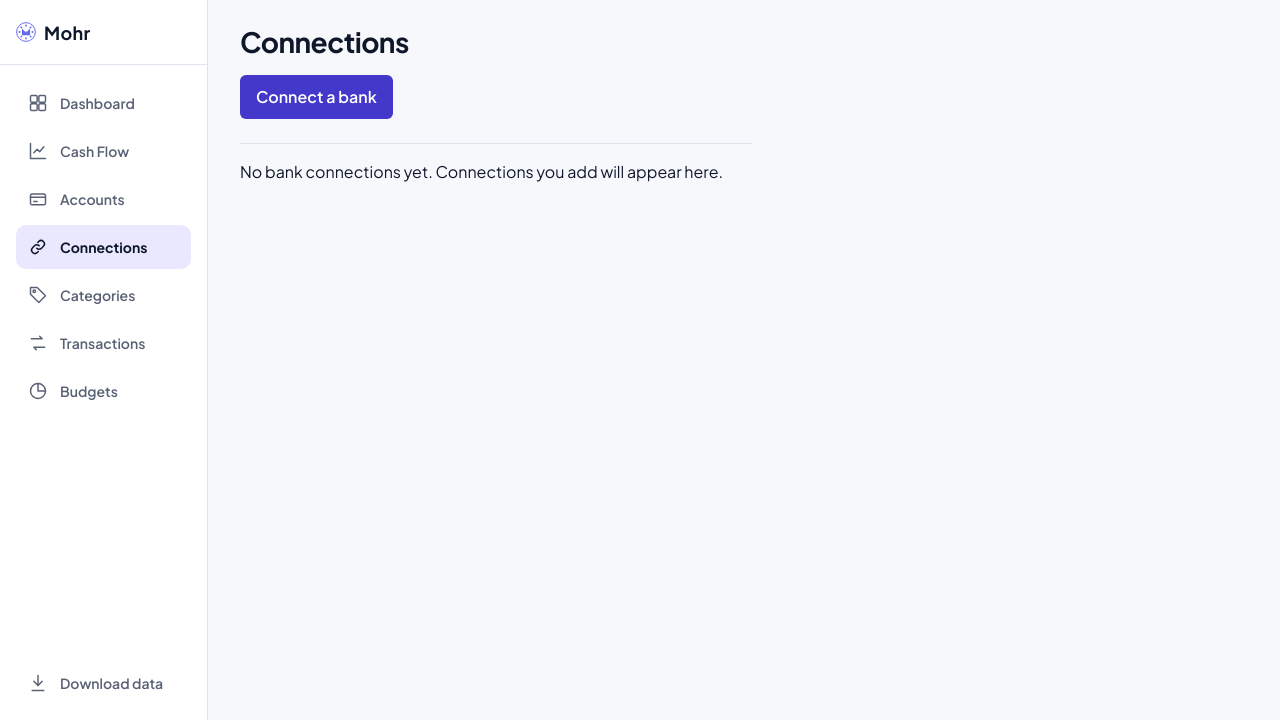
Test case: connect bank exchange and first sync › automatically runs the first sync after exchange and refetches the connection list from the server
Expected: the text "No bank connections yet" is shown, [240,161,723,182]
What coordinates should you click on to do the following:
click the button "Connect a bank"
I would click on:
 (316, 97)
Its box is [240,75,393,119].
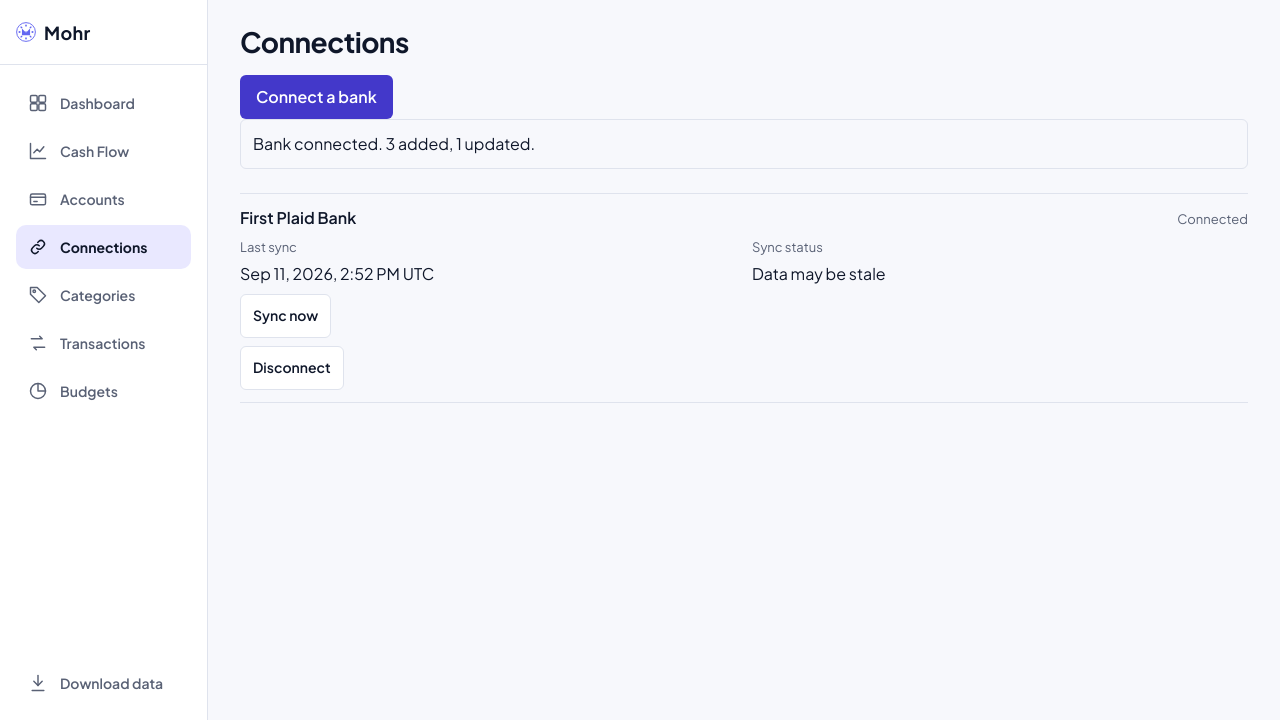
Expected: the heading "First Plaid Bank" is shown, [240,206,356,230]
Expected: the list named "Bank connections" is shown, [240,193,1248,402]
